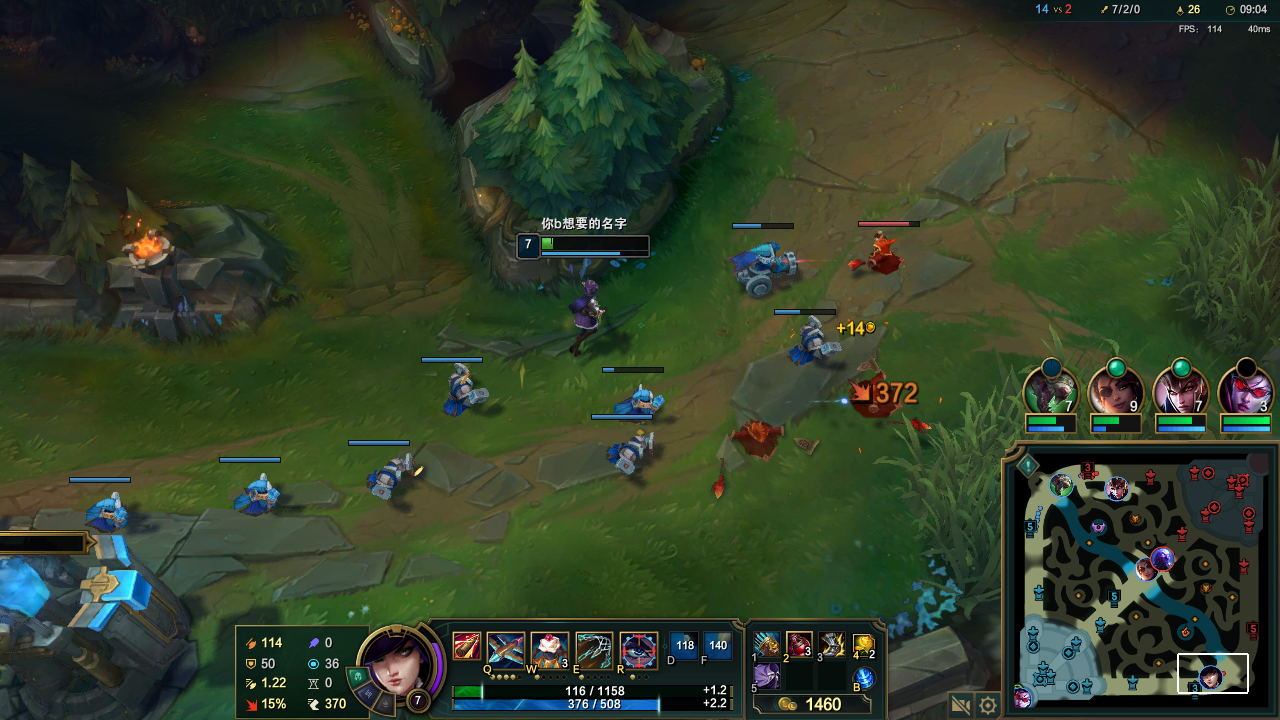DFXB: (860, 234, 903, 279)
WFXB: (737, 242, 803, 290), (440, 372, 490, 421), (605, 427, 658, 469), (369, 452, 413, 494), (232, 480, 279, 519), (84, 493, 133, 529), (794, 314, 827, 361), (615, 389, 659, 411)
